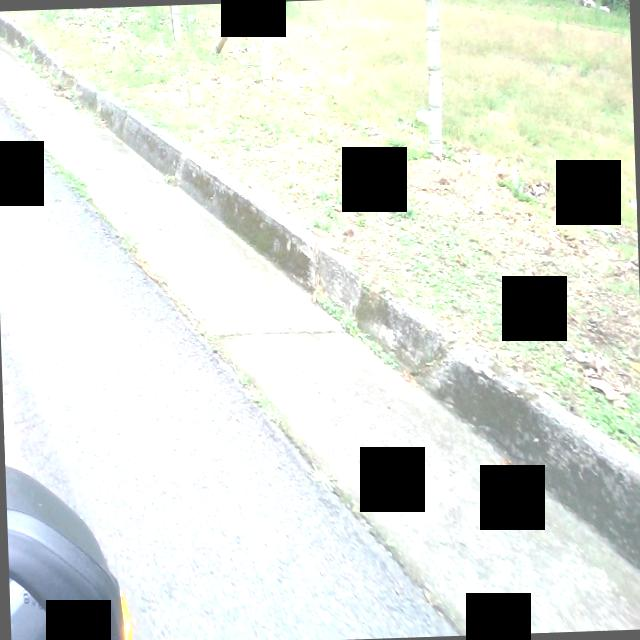DITCH: (0, 0, 640, 640), (38, 34, 640, 640)
